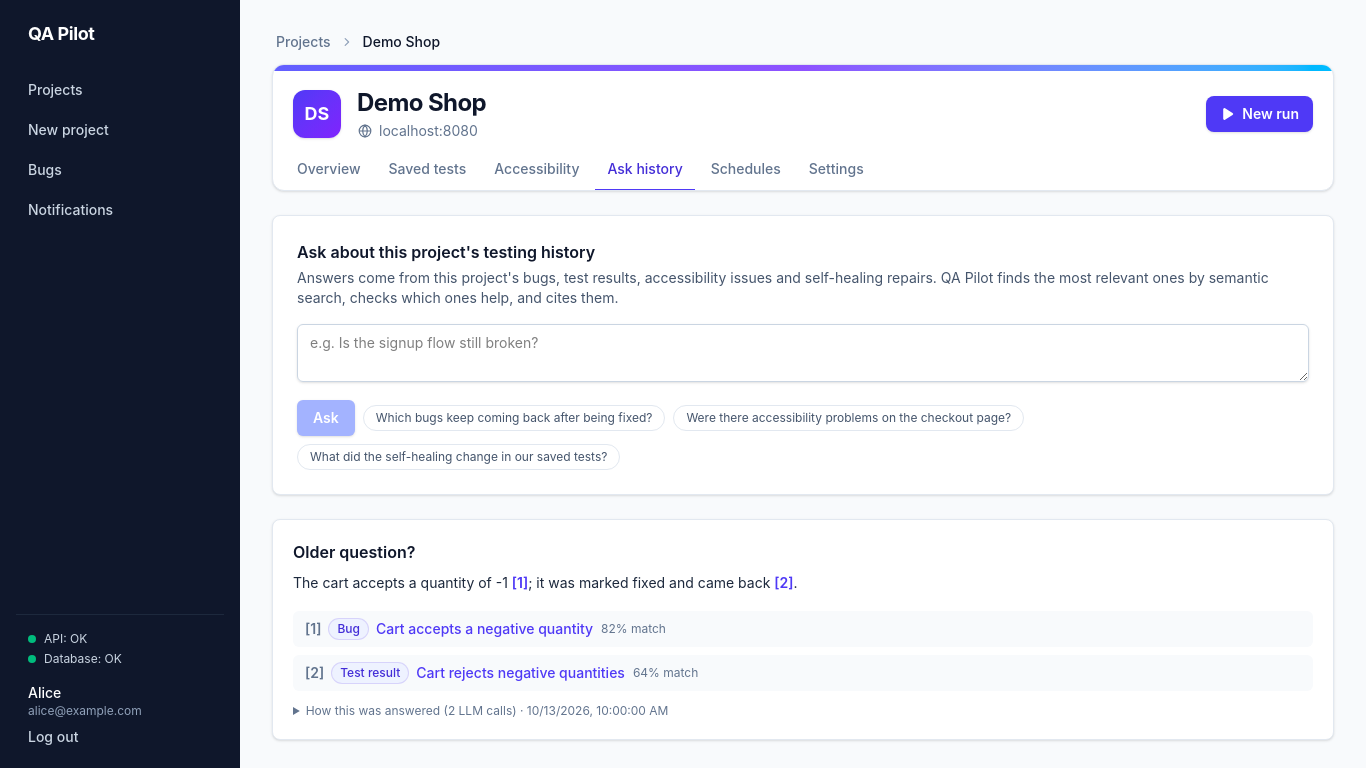
it: ask history page › asks a question and shows the new answer first
Expected: the element "Older question?" is shown, [272,519,1334,740]
Step 1. Type "Is checkout accessible?" into the text box named "Question" → (803, 353), box [297,324,1309,382]
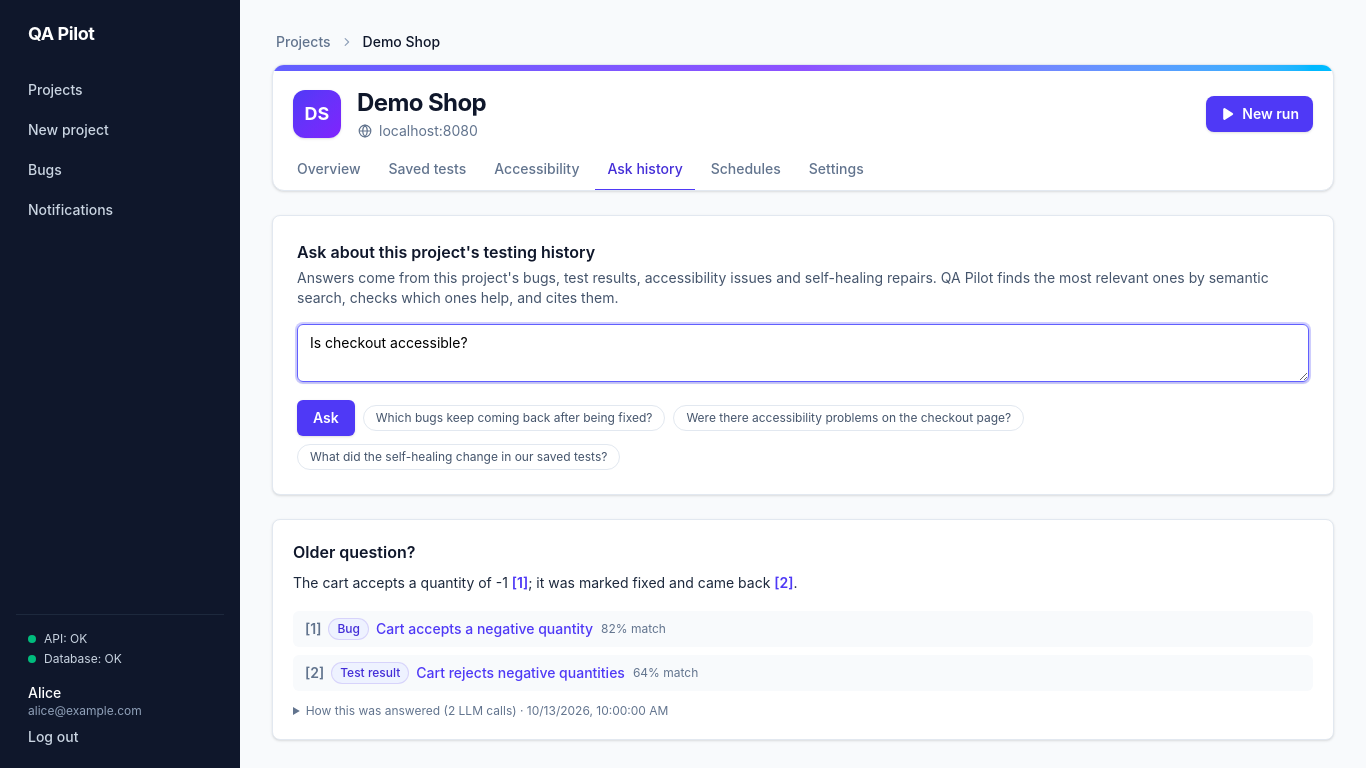
Step 2. Click the button "Ask" → (326, 418), box [297,400,355,436]
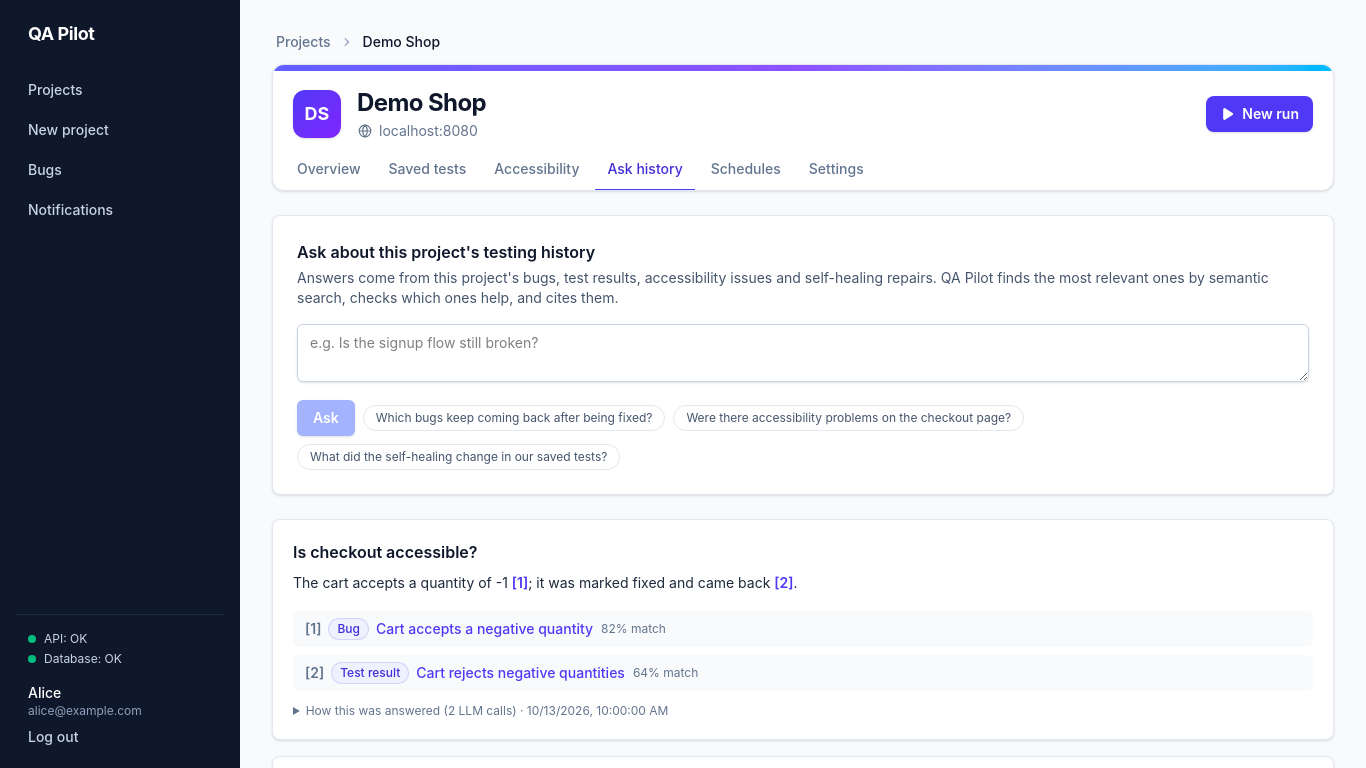
Expected: the element "Is checkout accessible?" is shown, [272,519,1334,740]
Expected: the text box named "Question" is empty, [297,324,1309,382]
